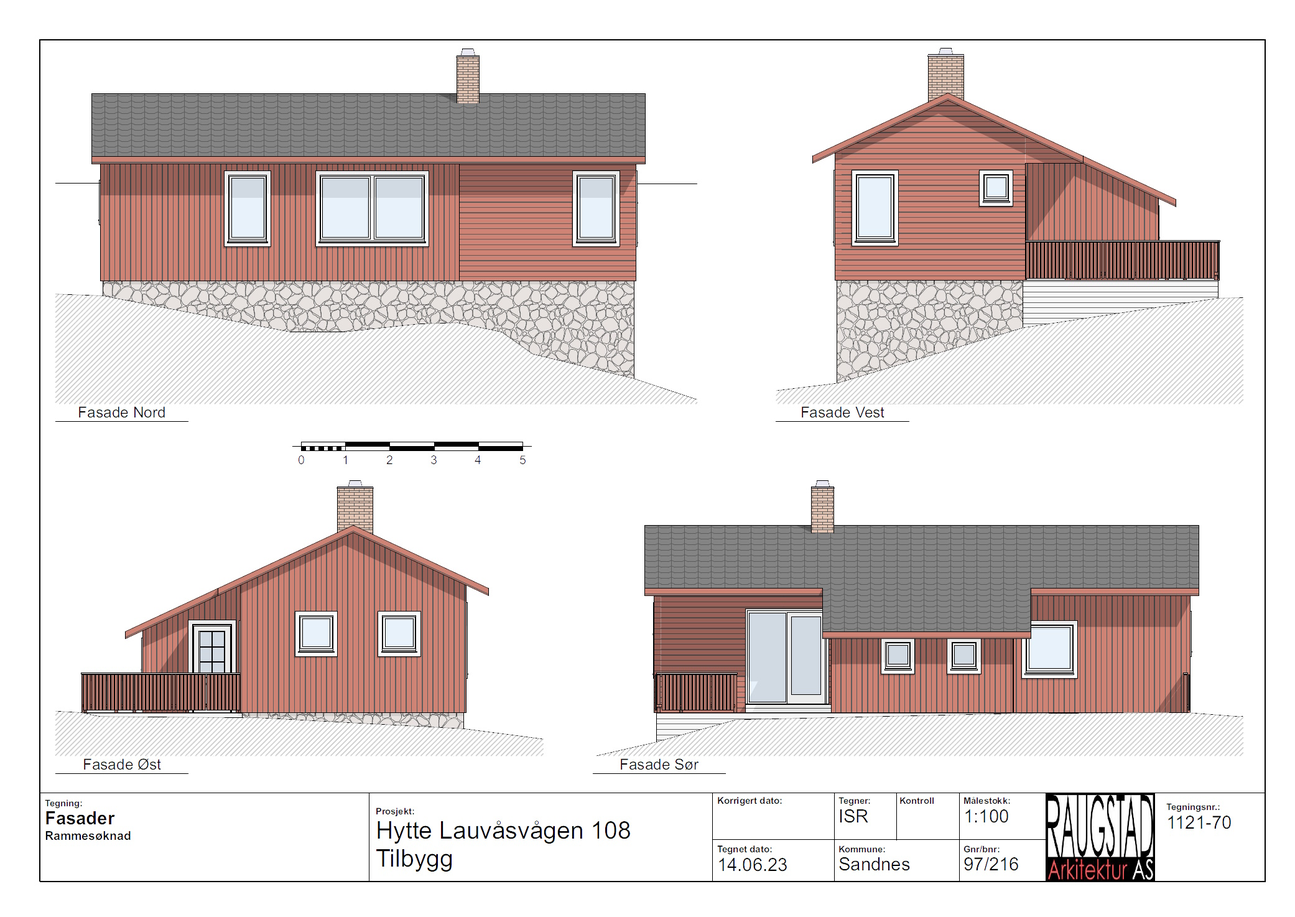fasade: (52, 47, 699, 403), (643, 477, 1203, 758), (810, 45, 1223, 406), (78, 478, 492, 756)
